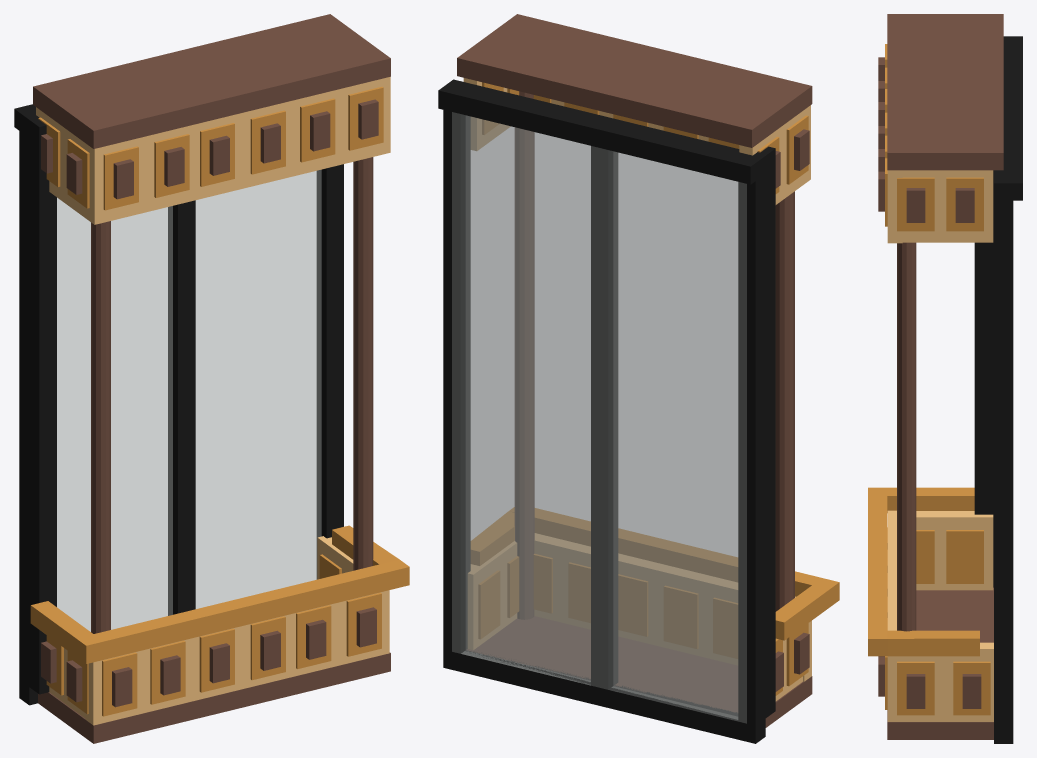
Rendered from scene_ZjiQmZvJhu.glb.
3 views of the same model, side by side, from view 1: azimuth 30°, elevation 25°; view 2: azimuth 150°, elevation 25°; view 3: azimuth 270°, elevation 25° (orthographic). The views are drawn at different scales.
Parts seen in each view (by area): view 1: group1198767915; view 2: group1198767915; view 3: group1198767915.
Boxes of the visible parts, box(x1,y1,x2,y2) form: group1198767915: box(14, 14, 409, 743); group1198767915: box(438, 14, 839, 743); group1198767915: box(868, 14, 1022, 743).
Size of the model in its own units: 0.37 by 0.67 by 0.16.
